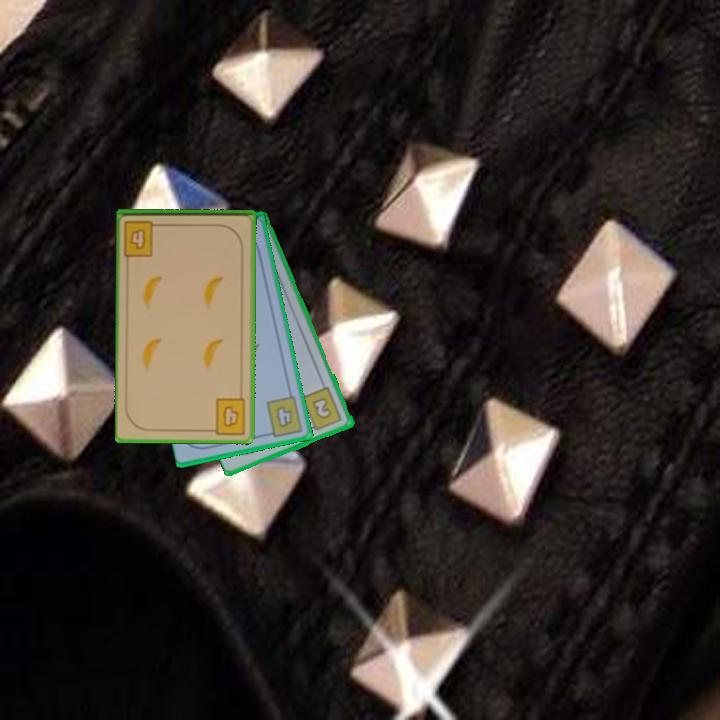2b: (299, 384, 345, 434)
4b: (262, 392, 306, 440), (121, 217, 165, 259), (206, 394, 248, 436)
